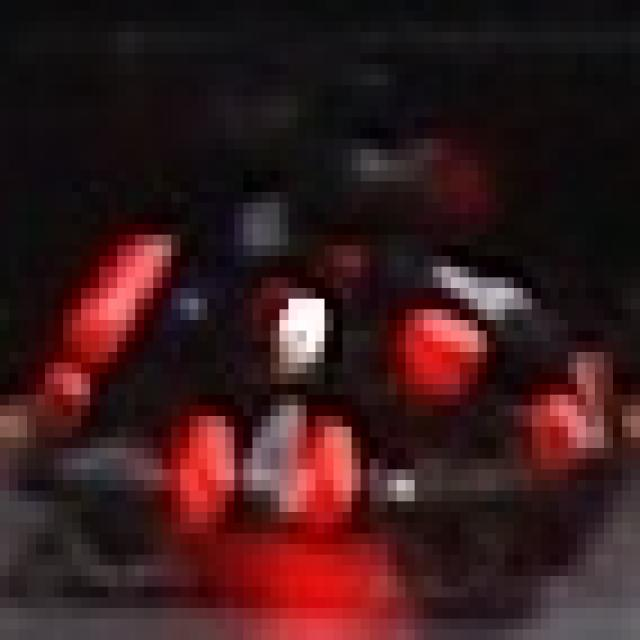R4: (189, 395, 352, 533), (406, 224, 532, 373)
